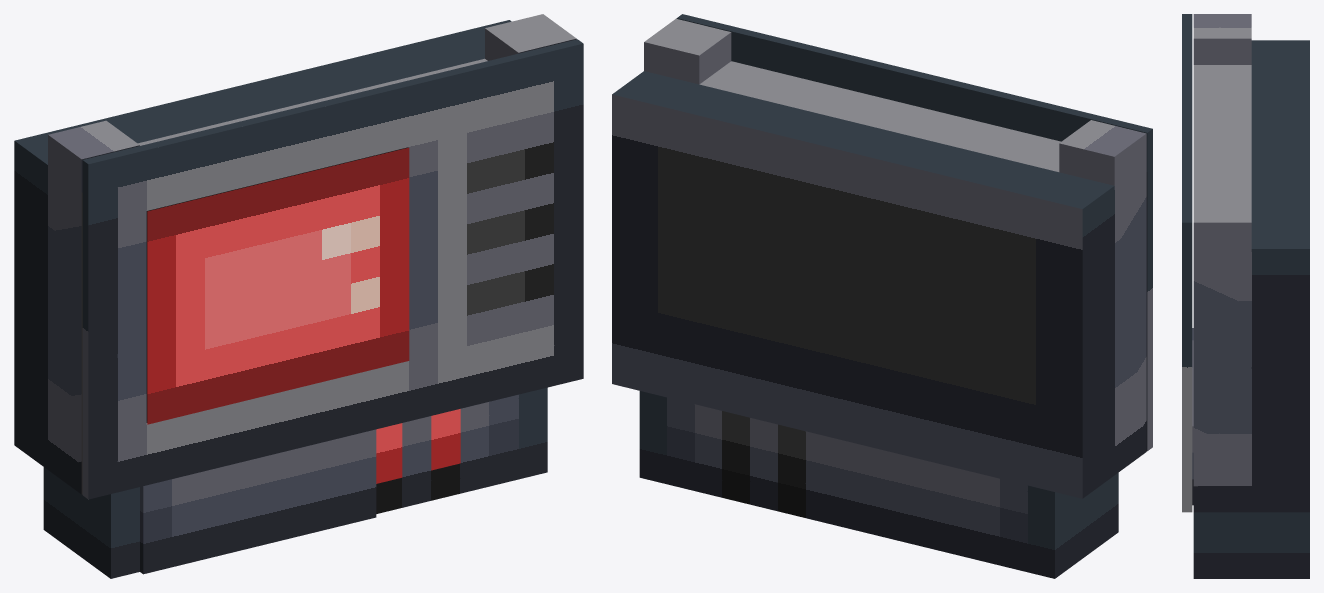
File: apc_breaker_off.glb
The picture shows the model from 3 angles, left to right: view 1: azimuth 30°, elevation 25°; view 2: azimuth 150°, elevation 25°; view 3: azimuth 270°, elevation 25°; orthographic projection. The views are drawn at different scales.
Parts seen in each view (by area): view 1: Main_Cover, Charge_Overlay, Lined_Enclosure, Wiring_Cover, Lower_Control_Housing, Lock_Overlay, Display_Glass; view 2: Lined_Enclosure, Lower_Control_Housing, Main_Cover; view 3: Lined_Enclosure, Lower_Control_Housing, Main_Cover, Wiring_Cover.
Part boxes in pixels (x1,y1,x2,y2): Main_Cover: [82, 39, 583, 499]; Charge_Overlay: [147, 147, 409, 424]; Lined_Enclosure: [14, 14, 576, 494]; Wiring_Cover: [140, 429, 376, 574]; Lower_Control_Housing: [43, 387, 547, 578]; Lock_Overlay: [376, 409, 460, 483]; Display_Glass: [146, 147, 406, 422]; Lined_Enclosure: [612, 18, 1146, 498]; Lower_Control_Housing: [639, 391, 1118, 578]; Main_Cover: [676, 14, 1152, 451]; Lined_Enclosure: [1193, 14, 1309, 512]; Lower_Control_Housing: [1193, 512, 1309, 578]; Main_Cover: [1182, 14, 1192, 512]; Wiring_Cover: [1192, 328, 1193, 505].
Size of the model in its own units: 0.4781 by 0.3938 by 0.1246.
3 materials, 3 textured.
